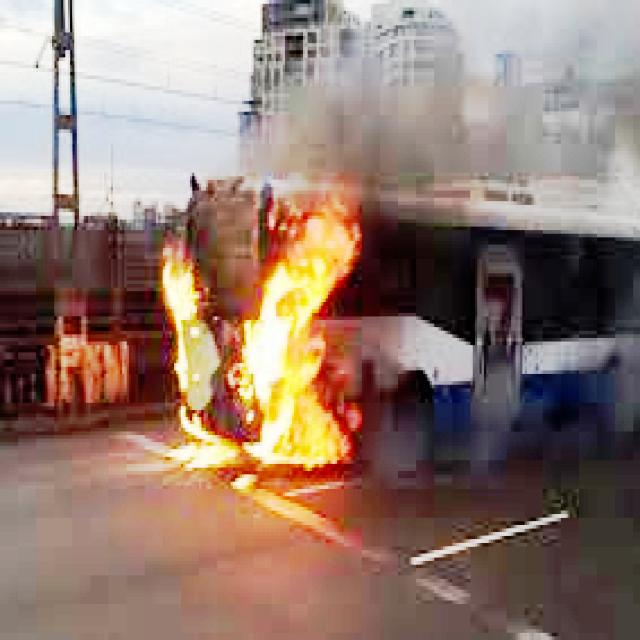api: (150, 188, 365, 479)
